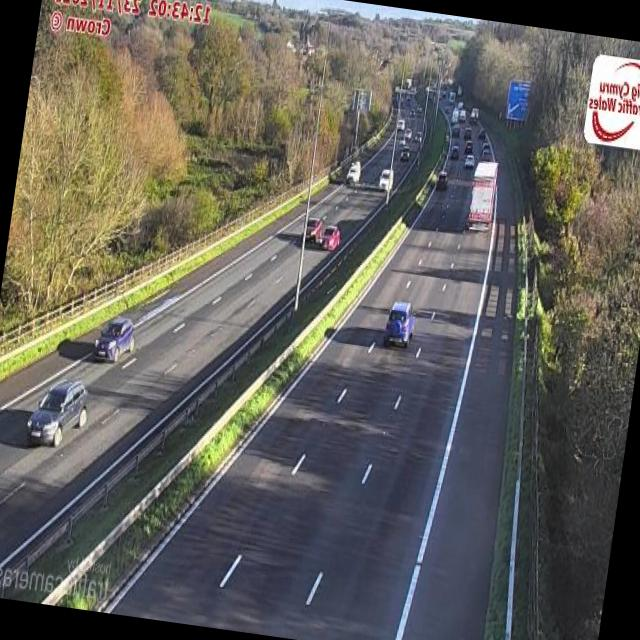foliage: (464, 20, 640, 640), (4, 40, 186, 314), (264, 26, 392, 181), (139, 189, 220, 254)
